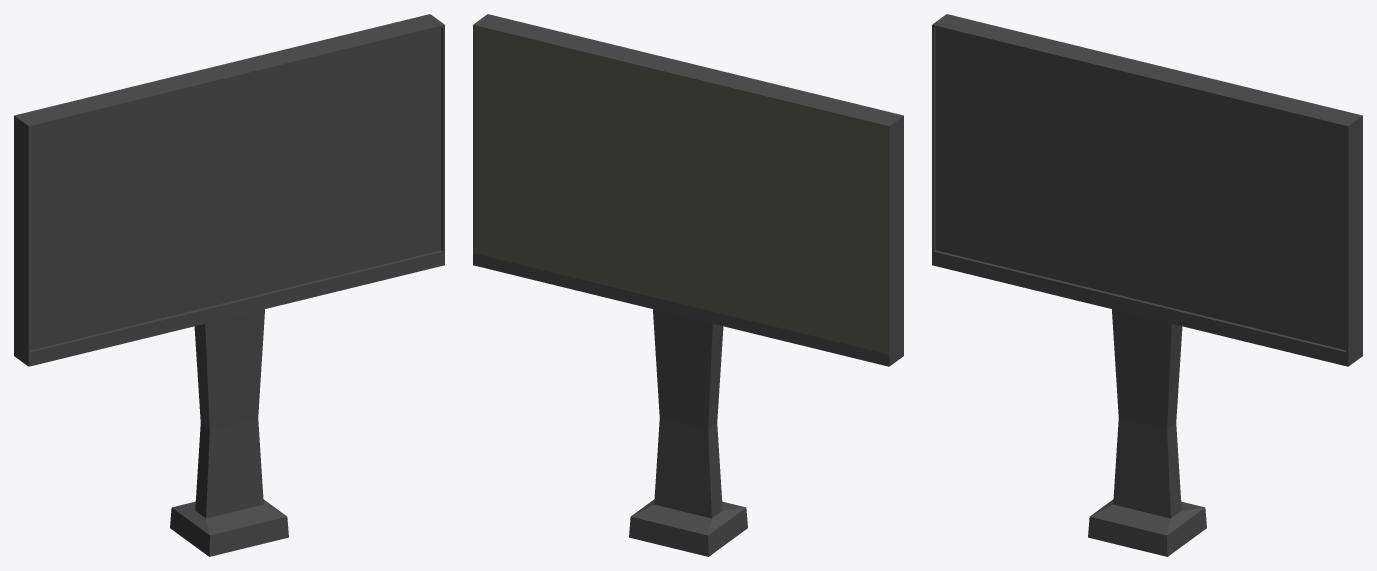
Rendered from BigScreen.fbx.
3 views of the same model, side by side, from view 1: azimuth 30°, elevation 25°; view 2: azimuth 150°, elevation 25°; view 3: azimuth 330°, elevation 25° (orthographic).
Visible parts, largest first — view 1: Cube; view 2: Cube; view 3: Cube.
Boxes of the visible parts, x1=… form: Cube: x1=14, y1=14, x2=444, y2=556; Cube: x1=473, y1=14, x2=903, y2=556; Cube: x1=932, y1=14, x2=1362, y2=556.
Bounding box in the file's own units: 8.04 × 8.54 × 1.32.
